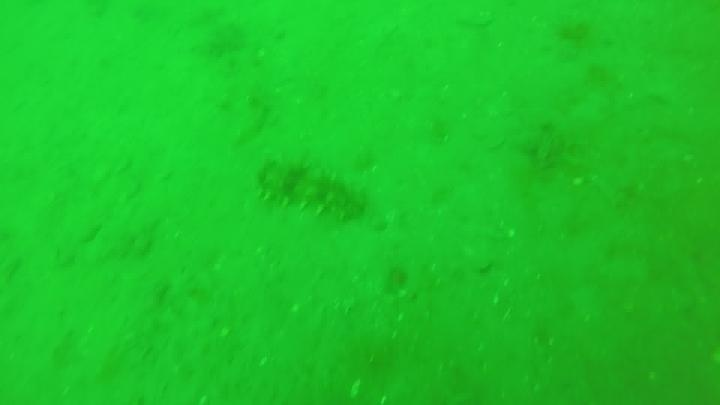holothurian: (253, 153, 369, 223)
